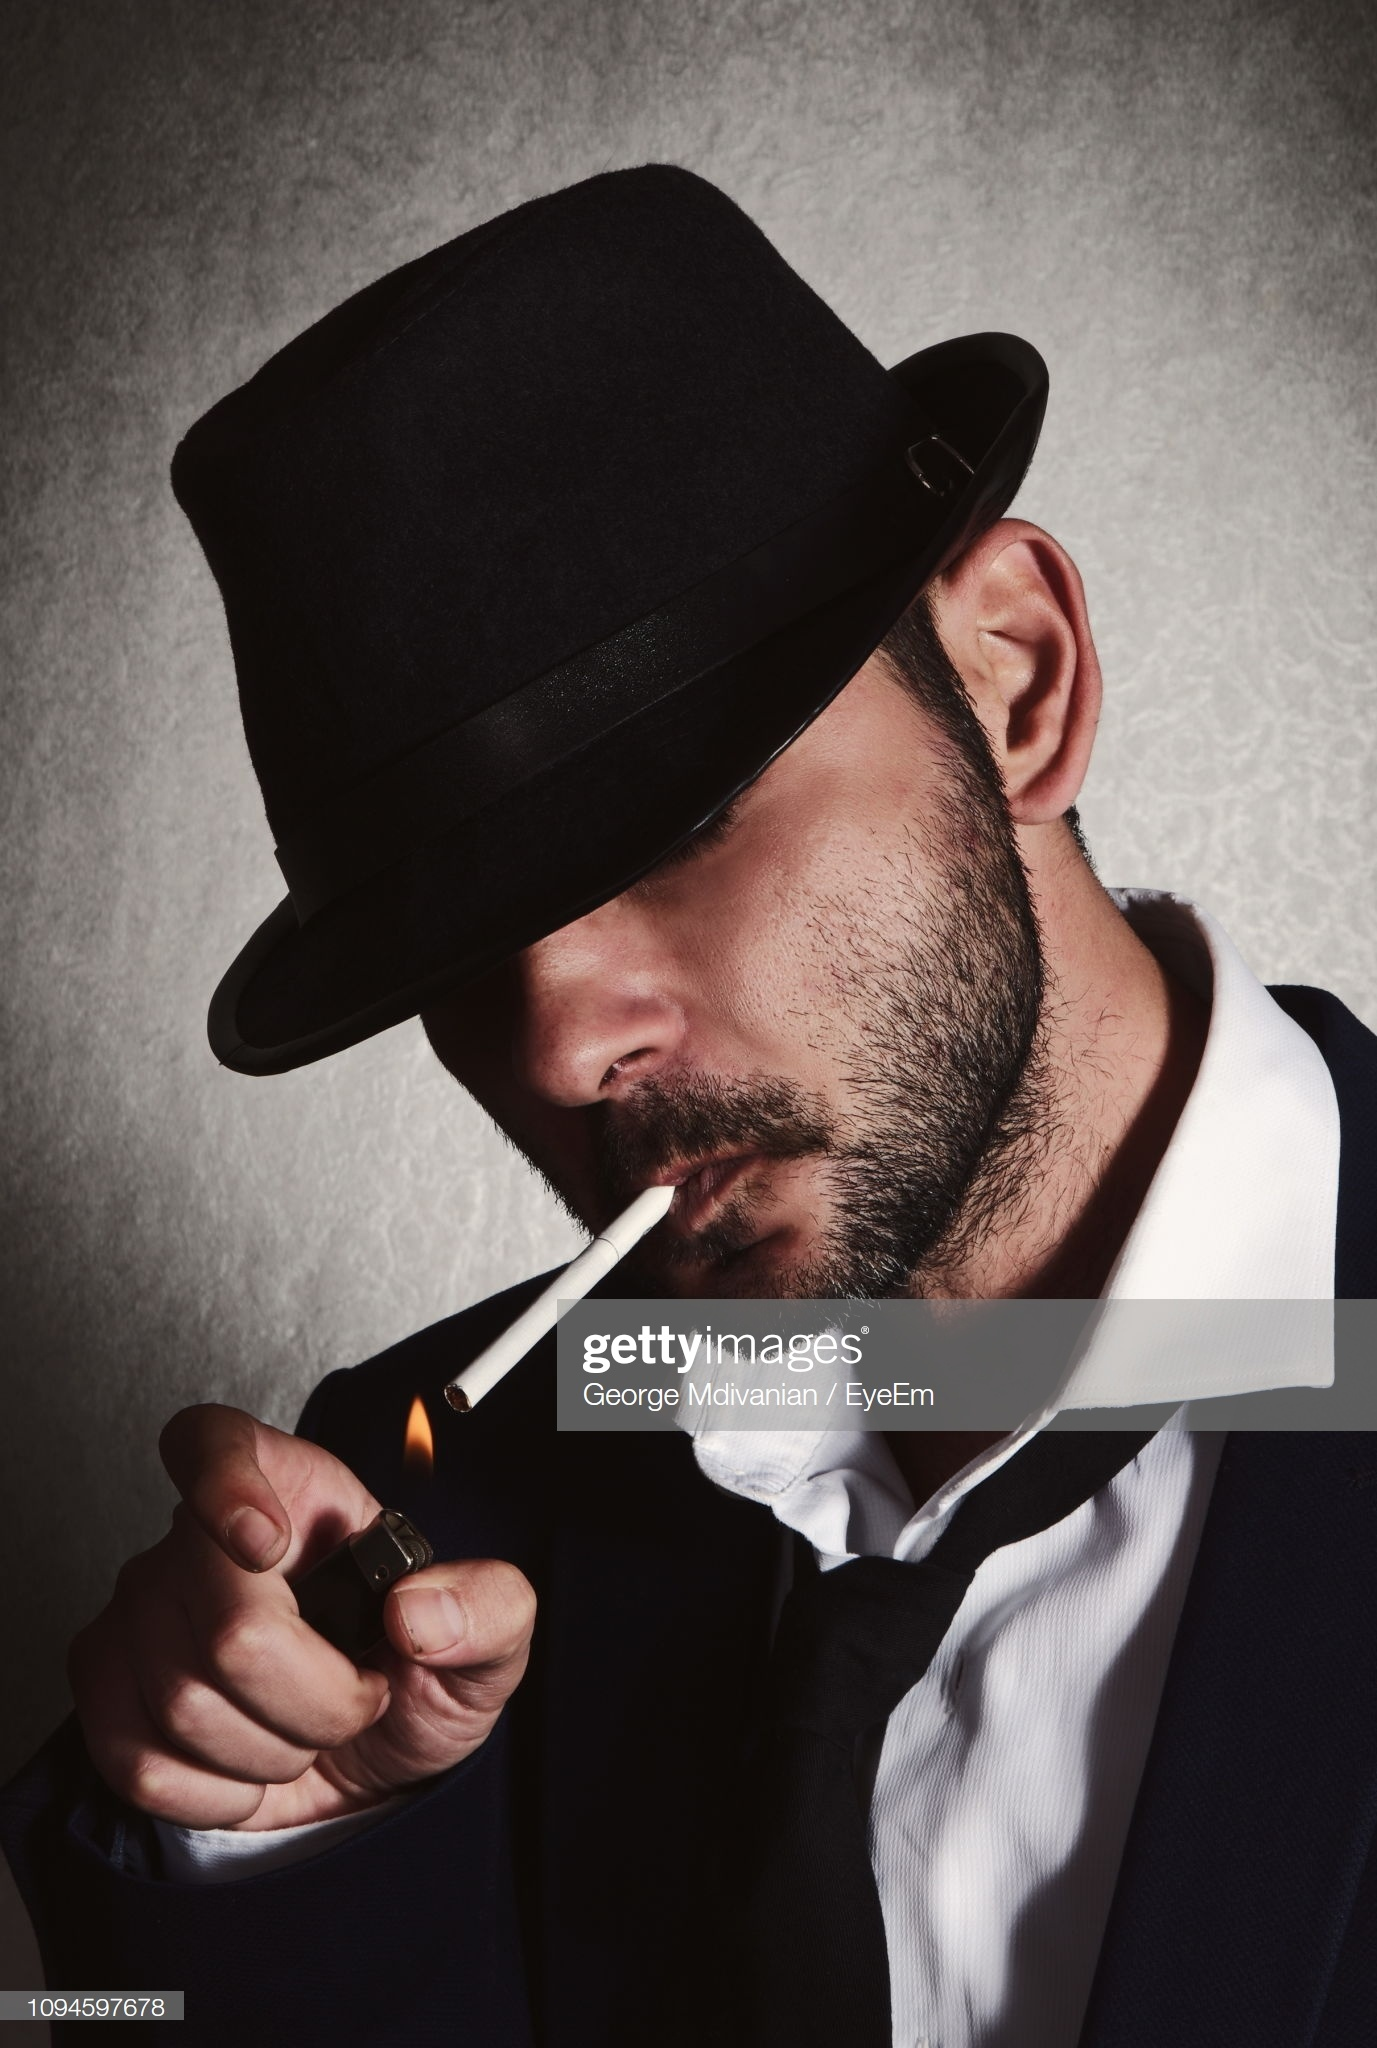sigaretta: (430, 1165, 682, 1453)
